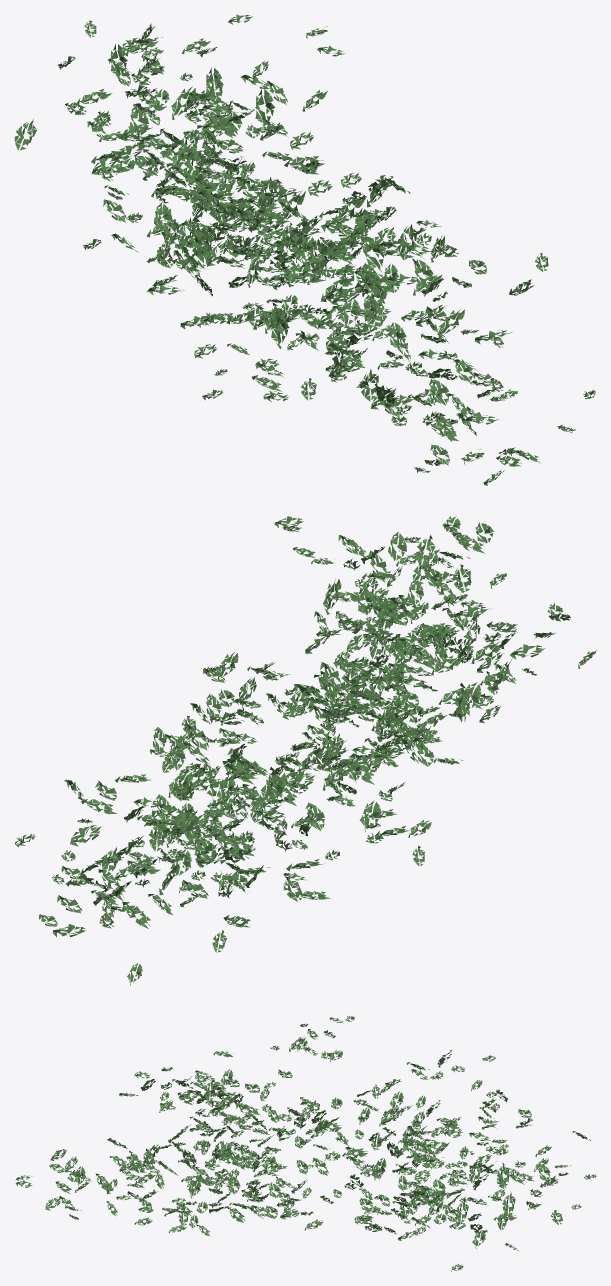
Rendered from holy_canopy5_real.glb.
3 views of the same model, one above another, from view 1: azimuth 30°, elevation 25°; view 2: azimuth 150°, elevation 25°; view 3: azimuth 270°, elevation 25° (orthographic). The views are drawn at different scales.
Parts seen in each view (by area): view 1: holy_canopy5; view 2: holy_canopy5; view 3: holy_canopy5.
Boxes of the visible parts, x1,y1,x2,y2 form: holy_canopy5: [14, 14, 595, 485]; holy_canopy5: [14, 516, 596, 985]; holy_canopy5: [15, 1016, 596, 1271].
Bounding box in the file's own units: 9.93 × 11.85 × 28.18.
Materials: 1 (1 with a texture image).
